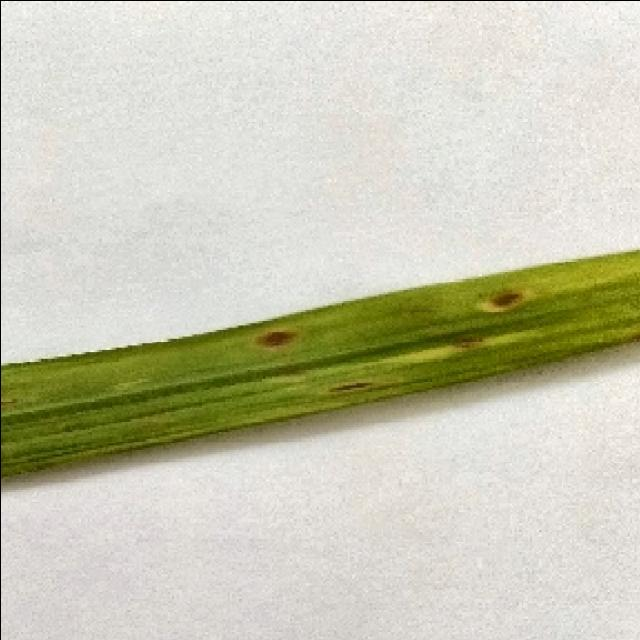Leaf_Blast: (240, 267, 542, 409)
